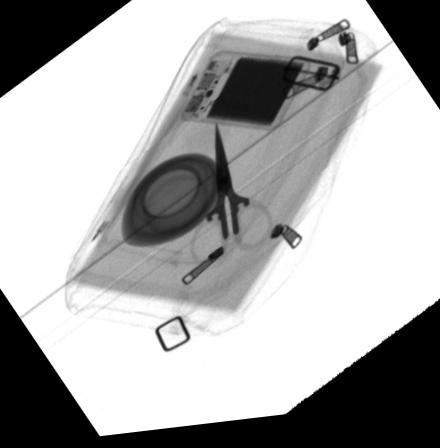Powerbank: (176, 58, 312, 138)
Scissors: (190, 123, 277, 275)
